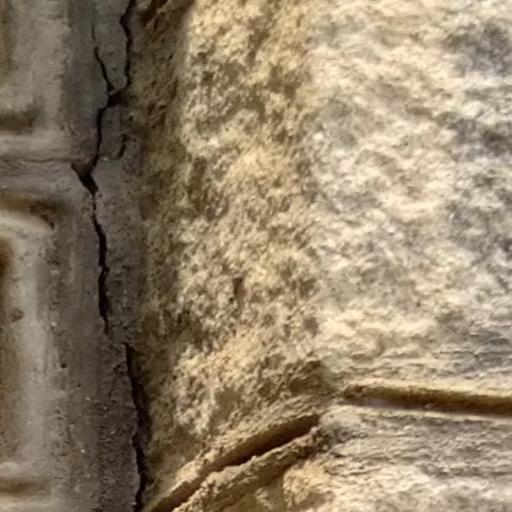major_crack: (56, 0, 170, 512)
